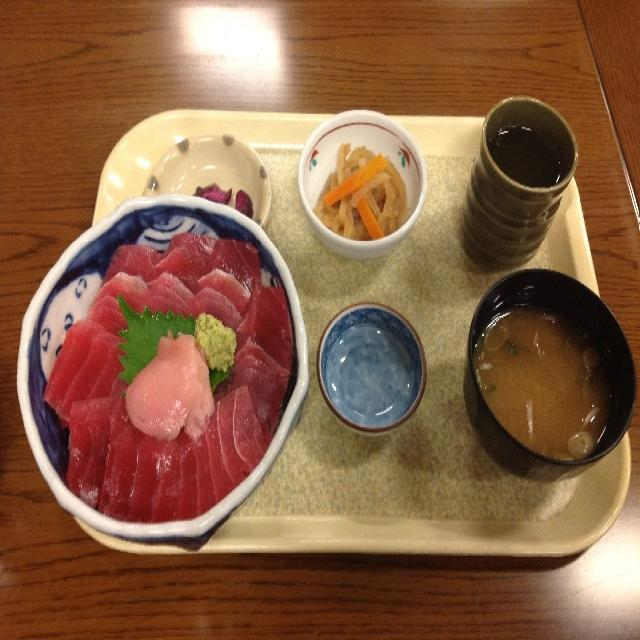刺身生食: (16, 166, 296, 472)
汤锅炖物: (440, 218, 606, 412)
